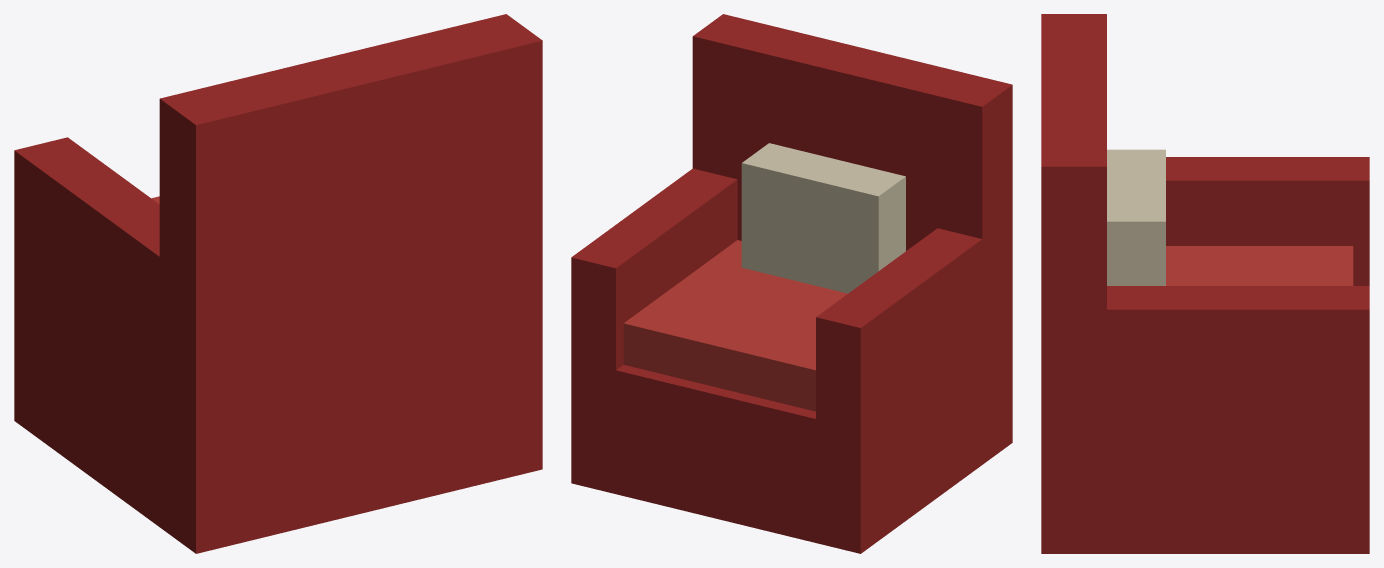
File: ntu-armchair.glb
3 renders of one model, left to right at view 1: azimuth 30°, elevation 25°; view 2: azimuth 150°, elevation 25°; view 3: azimuth 270°, elevation 25°, orthographic. The views are drawn at different scales.
Parts seen in each view (by area): view 1: box-prop; view 2: box-prop; view 3: box-prop.
Part boxes in pixels (x1,y1,x2,y2): box-prop: (14, 14, 542, 553); box-prop: (571, 14, 1012, 553); box-prop: (1041, 14, 1369, 553).
Size of the model in its own units: 1.1 by 1.3 by 1.
